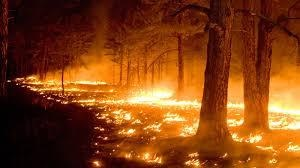fire: (18, 72, 201, 133), (267, 102, 300, 133)
